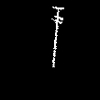treble_crochet: (52, 7, 63, 66)
